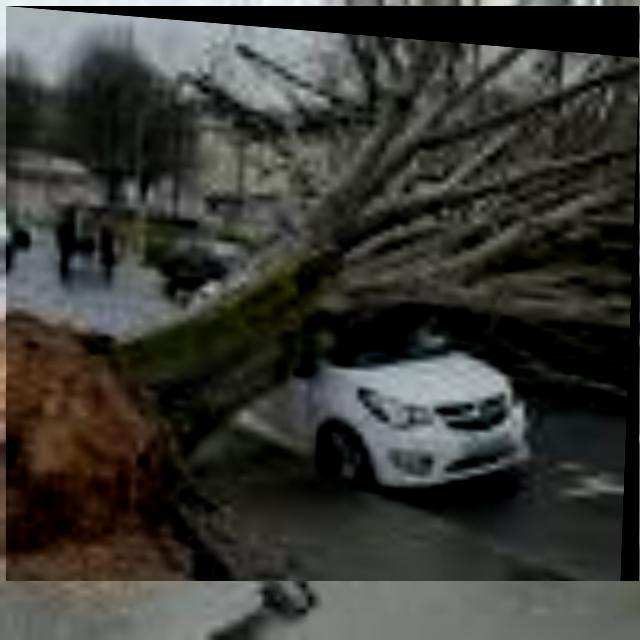fallen_tree: (6, 6, 640, 582)
